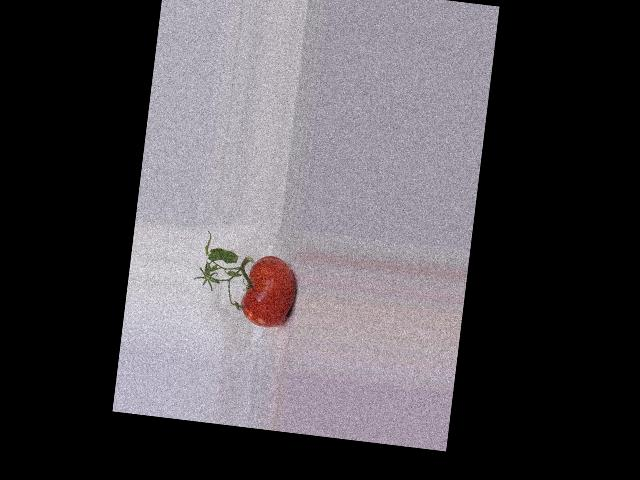tomato: (239, 253, 300, 330)
